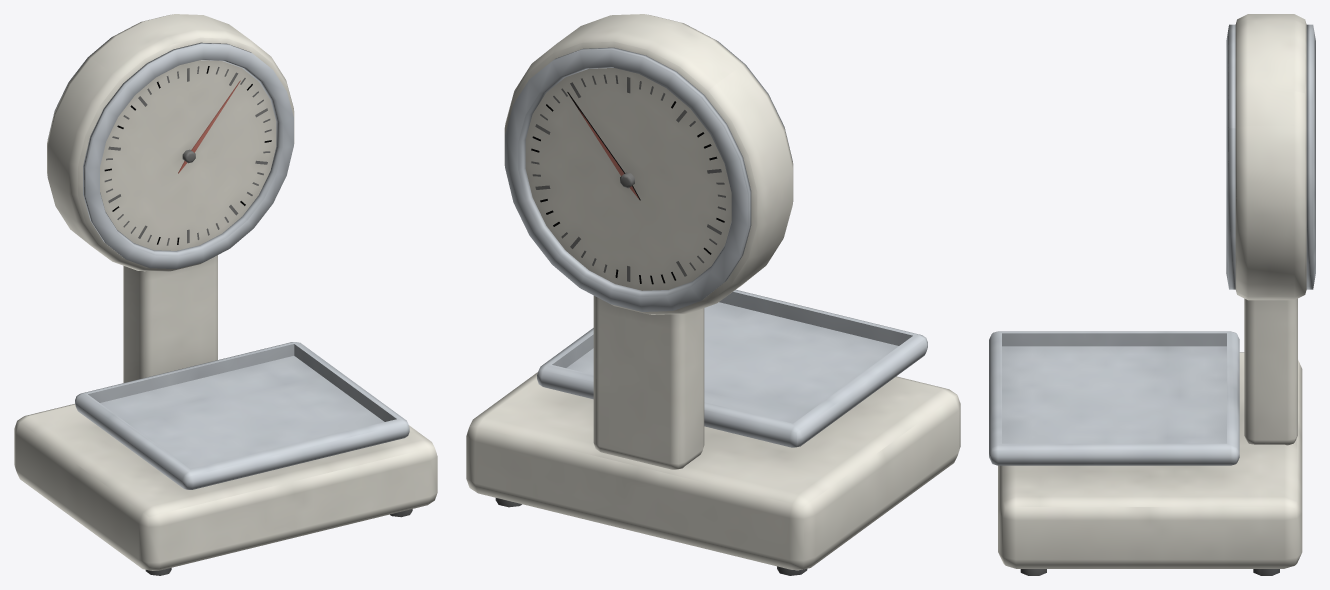
File: Shop_Scales.fbx
The picture shows the model from 3 angles, left to right: view 1: azimuth 30°, elevation 25°; view 2: azimuth 150°, elevation 25°; view 3: azimuth 270°, elevation 25°; orthographic projection. The views are drawn at different scales.
Parts seen in each view (by area): view 1: Shop_Scales; view 2: Shop_Scales; view 3: Shop_Scales.
Boxes of the visible parts, x1,y1,x2,y2 form: Shop_Scales: [14, 14, 437, 575]; Shop_Scales: [466, 14, 960, 575]; Shop_Scales: [989, 14, 1315, 575].
Bounding box in the file's own units: 0.42 × 0.5886 × 0.365.
